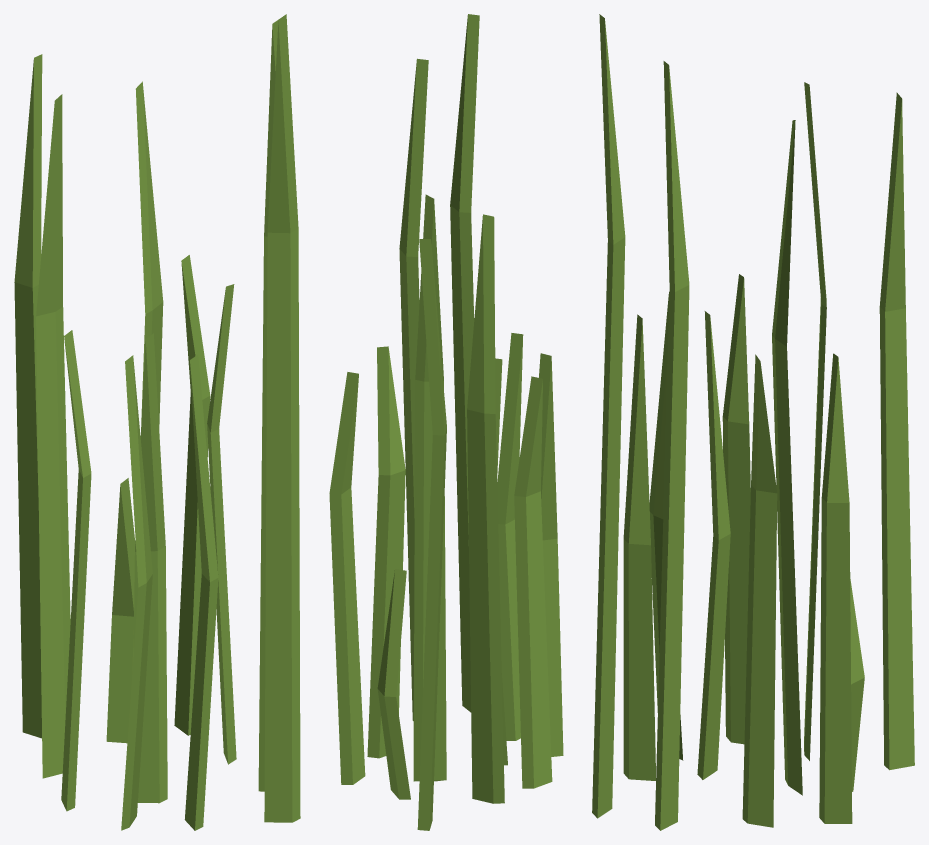
File: grass-b.glb
3 views of the same model, side by side, from view 1: azimuth 30°, elevation 25°; view 2: azimuth 150°, elevation 25°; view 3: azimuth 270°, elevation 25° (orthographic). The views are drawn at different scales.
Visible parts, largest first — view 1: Grass_2; view 2: Grass_2; view 3: Grass_2.
Part boxes in pixels (x1,y1,x2,y2): Grass_2: (14,14,300,830); Grass_2: (329,14,563,830); Grass_2: (592,14,914,830).
Bounding box in the file's own units: 0.1711 × 0.65 × 0.239.
